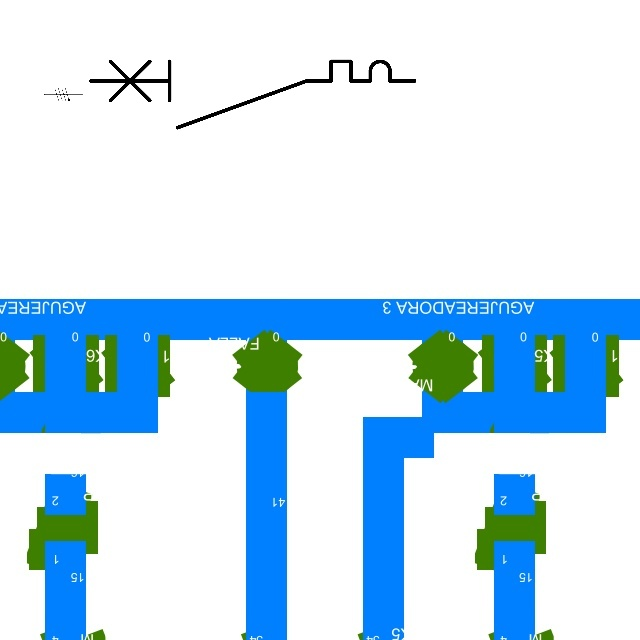interruptor_termomagnetico: (82, 53, 423, 136)
